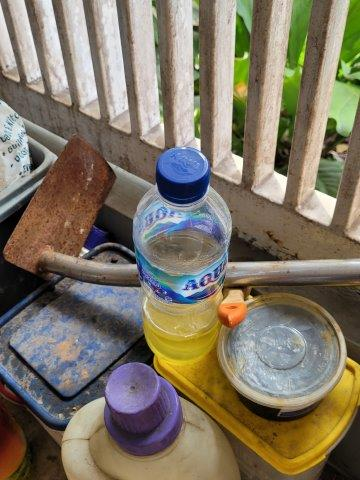botolplastik: (131, 148, 232, 363)
